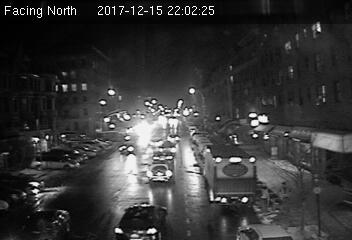car: (113, 203, 171, 240), (19, 209, 75, 238), (236, 222, 296, 240), (148, 163, 173, 182), (152, 148, 175, 162), (118, 141, 138, 154)
truck: (202, 145, 257, 208)
